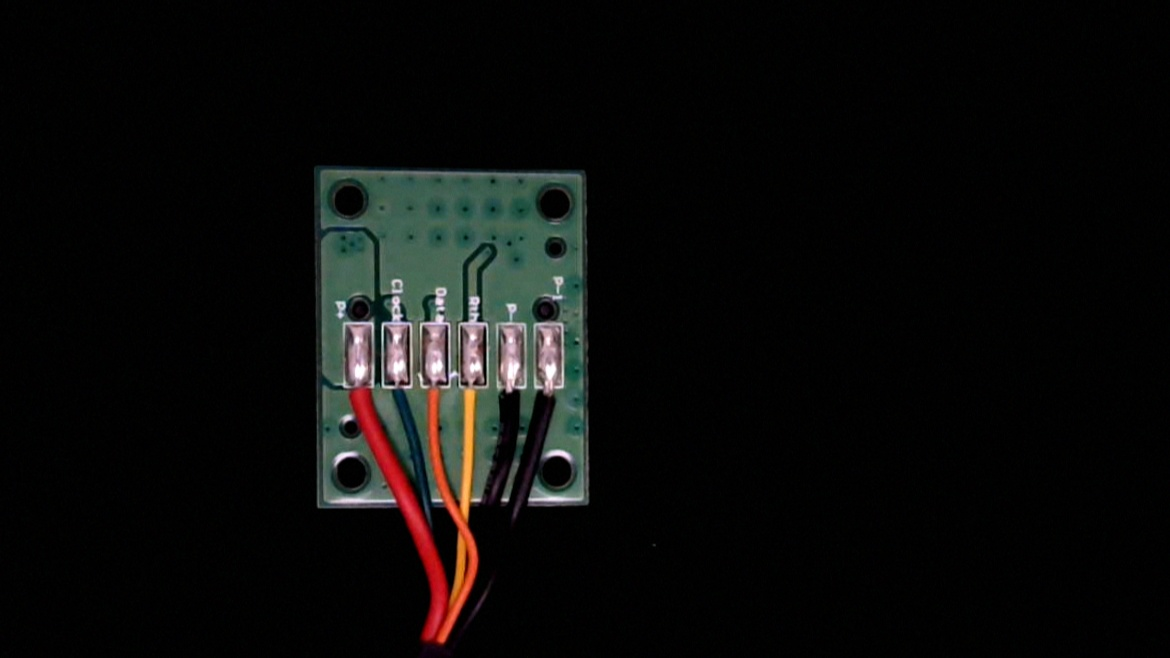Black: (494, 365, 528, 440)
Black1: (532, 367, 564, 435)
Green: (381, 359, 415, 431)
Orange: (420, 361, 452, 436)
Red: (342, 363, 377, 435)
Yellow: (459, 364, 493, 440)
